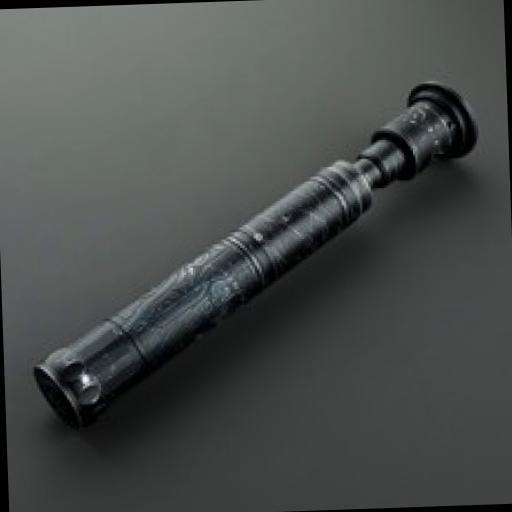lightsaber: (20, 78, 489, 436)
